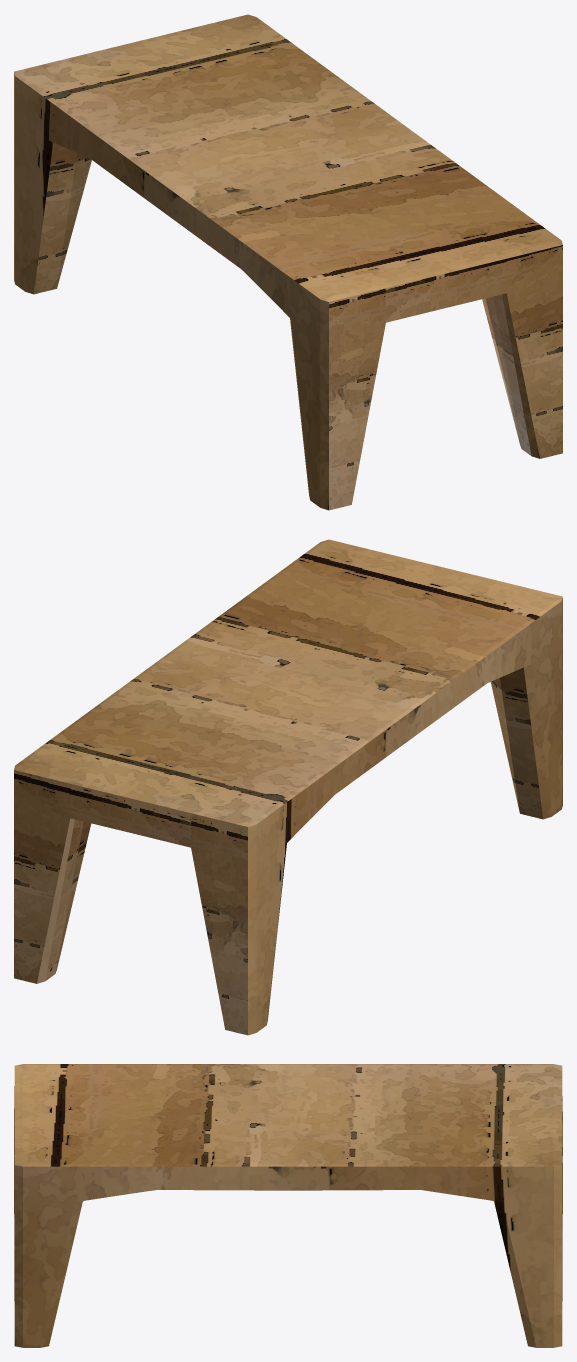
Rendered from table.fbx.
3 renders of one model, top to bottom at view 1: azimuth 30°, elevation 25°; view 2: azimuth 150°, elevation 25°; view 3: azimuth 270°, elevation 25°, orthographic. The views are drawn at different scales.
Parts seen in each view (by area): view 1: Cube; view 2: Cube; view 3: Cube.
Part boxes in pixels (x1,y1,x2,y2): Cube: (14,14,562,510); Cube: (14,539,562,1035); Cube: (14,1064,562,1347).
Size of the model in its own units: 336 by 275 by 749.
Materials: 1 (1 with a texture image).
